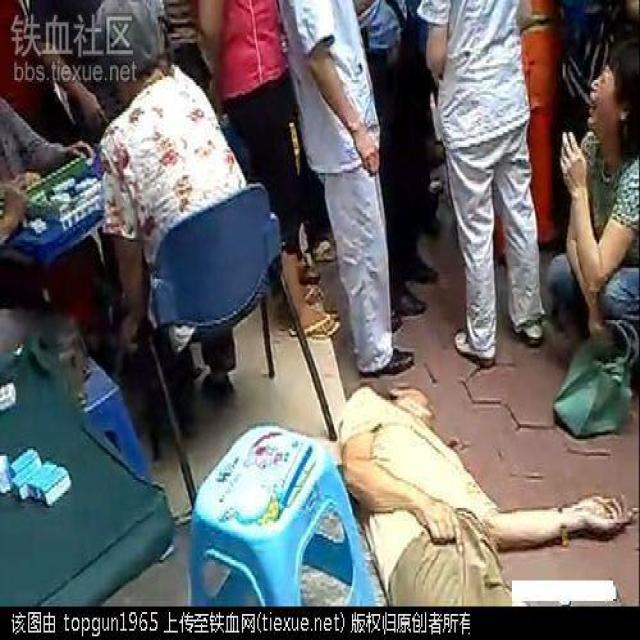10-: (0, 0, 639, 612)
down: (332, 372, 638, 621)
